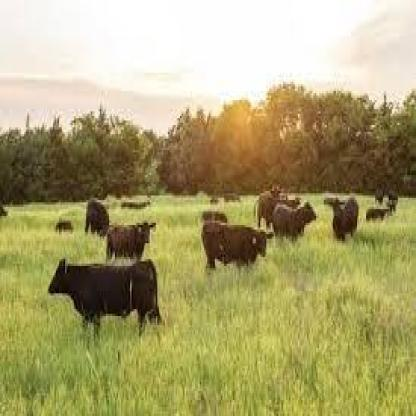cow: (49, 258, 166, 347), (201, 218, 274, 273), (106, 221, 156, 259), (272, 202, 318, 241), (254, 194, 301, 228), (329, 198, 358, 241), (86, 200, 110, 239), (366, 207, 390, 223), (120, 199, 151, 210), (55, 221, 74, 234), (388, 191, 400, 205), (224, 194, 240, 204), (374, 193, 385, 205), (386, 203, 396, 215), (209, 198, 221, 204)
